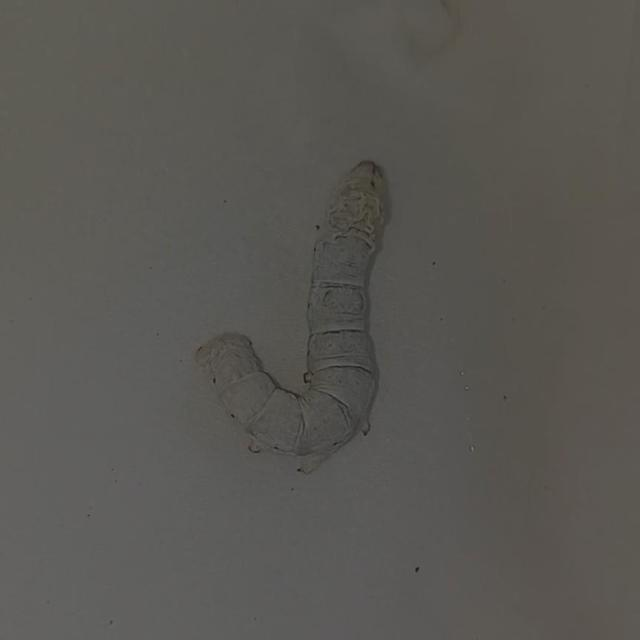Healthy: (157, 140, 432, 478)
